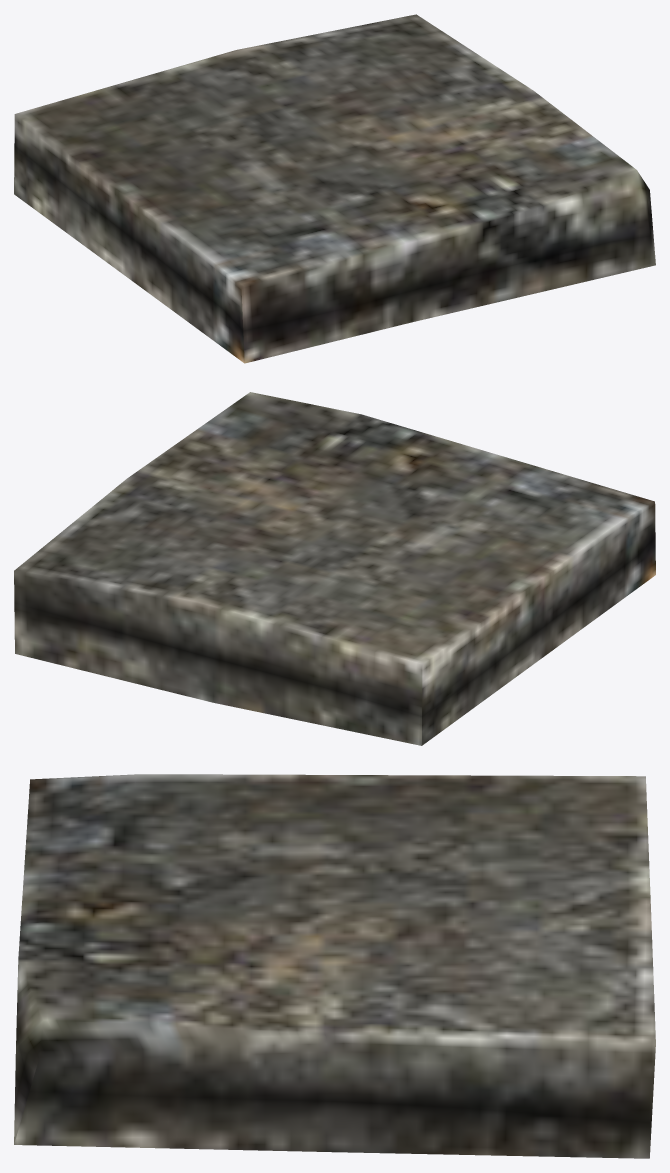
Rendered from Brick2A.fbx.
3 renders of one model, top to bottom at view 1: azimuth 30°, elevation 25°; view 2: azimuth 150°, elevation 25°; view 3: azimuth 270°, elevation 25°, orthographic. The views are drawn at different scales.
Visible parts, largest first — view 1: polySurface20; view 2: polySurface20; view 3: polySurface20.
Boxes of the visible parts, bbox=[...] form: polySurface20: bbox=[14, 14, 655, 363]; polySurface20: bbox=[14, 392, 655, 745]; polySurface20: bbox=[14, 774, 655, 1158].
Bounding box in the file's own units: 1.88 × 0.4316 × 1.89.
